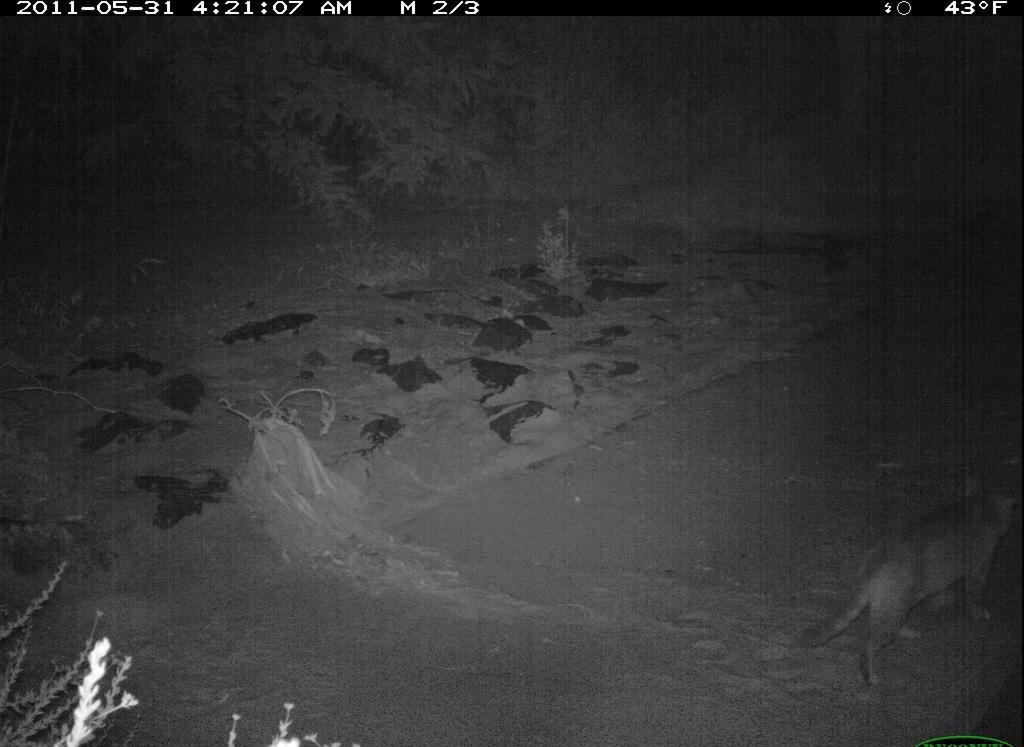cat: (792, 477, 1022, 692)
